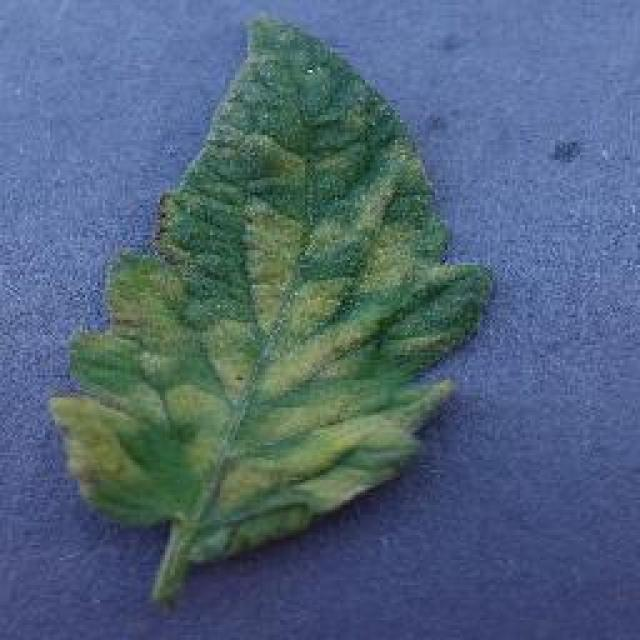Tomato mold leaf: (50, 11, 490, 566)
